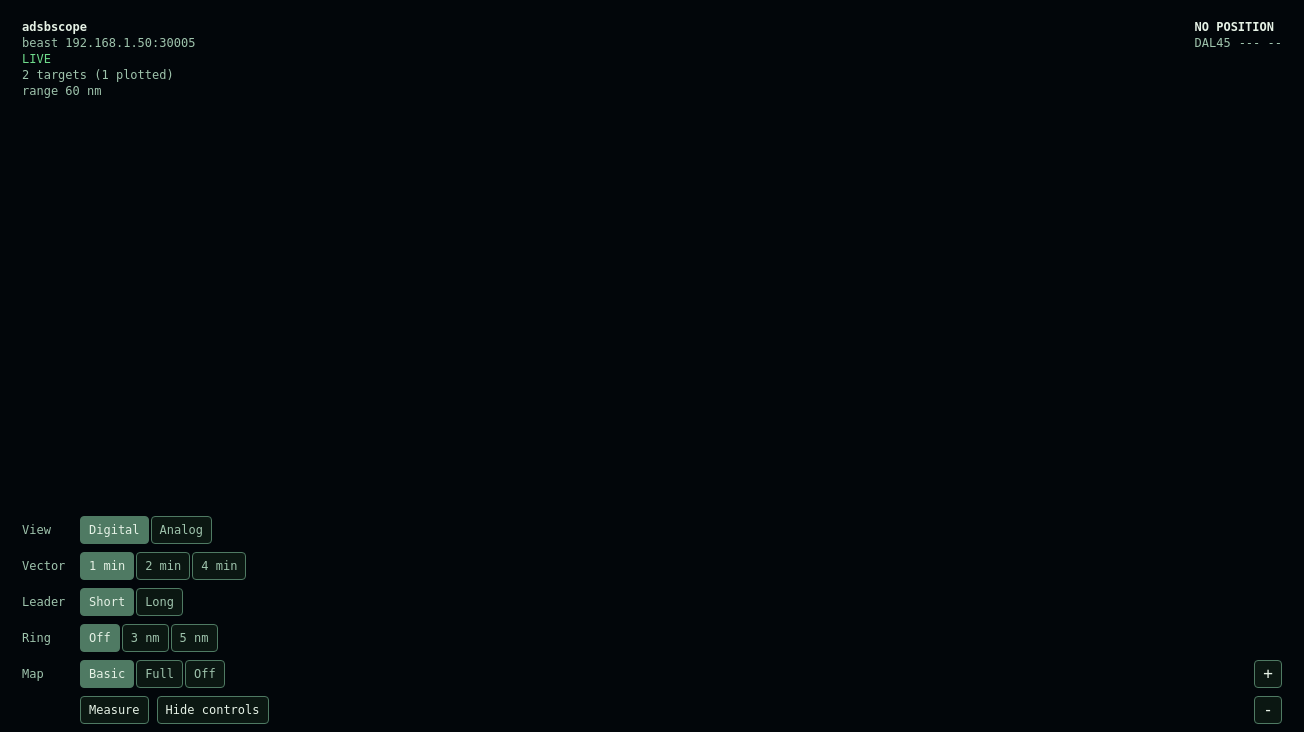
Scenario: ScopeView › range/bearing line › starts and stops a line from the button under the selectors
Click the button "Measure".
click(114, 710)  # box [80,696,149,724]
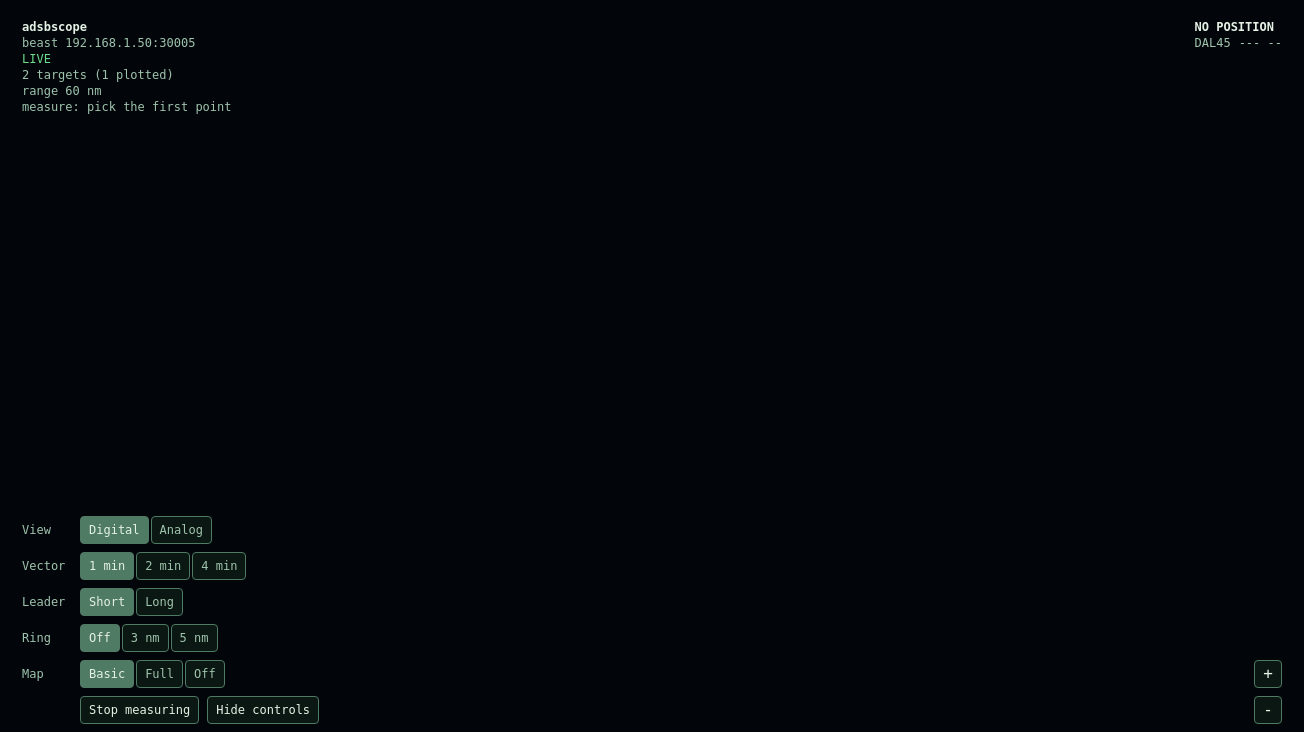
Result: the text "measure: pick the first point" is shown at [22,100,232,114]
Click the button "Stop measuring".
click(140, 710)  # box [80,696,199,724]
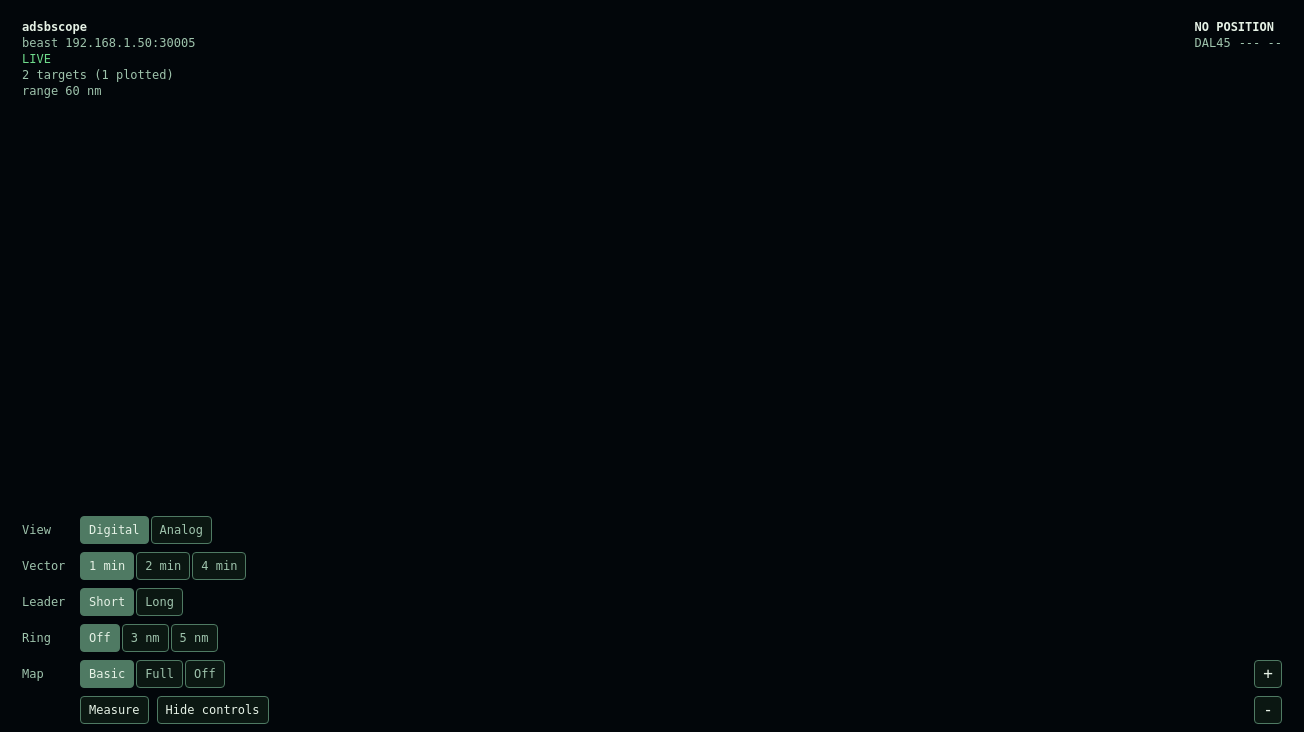
Result: the button "Measure" is shown at [80,696,149,724]
